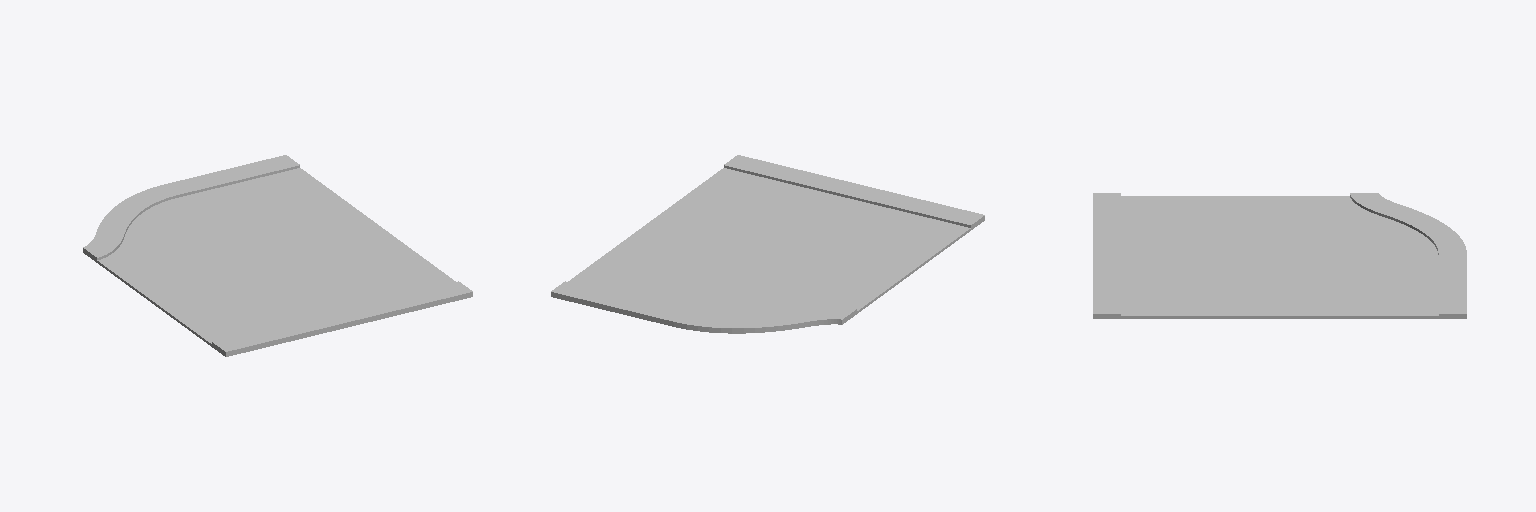
The model's file is road_sideExit.obj.
3 renders of one model, left to right at view 1: azimuth 30°, elevation 25°; view 2: azimuth 150°, elevation 25°; view 3: azimuth 270°, elevation 25°, orthographic.
Visible parts, largest first — view 1: road_sideExit; view 2: road_sideExit; view 3: road_sideExit.
Boxes of the visible parts, box(x1,y1,x2,y2) form: road_sideExit: box(83, 155, 472, 356); road_sideExit: box(551, 155, 984, 333); road_sideExit: box(1093, 193, 1466, 318).
Bounding box in the file's own units: 1 × 0.02 × 1.31.